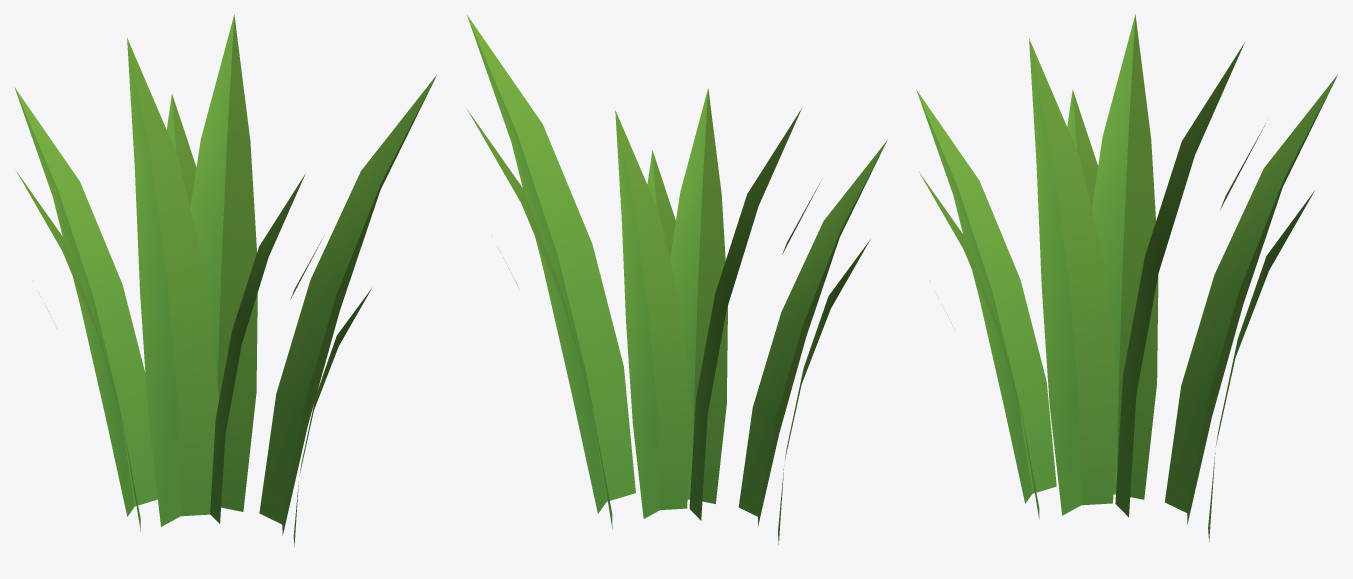
The model's file is Grass_2_C_Color1.glb.
3 renders of one model, left to right at view 1: azimuth 30°, elevation 25°; view 2: azimuth 150°, elevation 25°; view 3: azimuth 270°, elevation 25°, orthographic. The views are drawn at different scales.
Visible parts, largest first — view 1: Grass_2_C_Singlesided_Color1; view 2: Grass_2_C_Singlesided_Color1; view 3: Grass_2_C_Singlesided_Color1.
Part boxes in pixels (left/top/right/bottom): Grass_2_C_Singlesided_Color1: left=14, top=15, right=436, bottom=546; Grass_2_C_Singlesided_Color1: left=467, top=15, right=887, bottom=544; Grass_2_C_Singlesided_Color1: left=916, top=14, right=1337, bottom=541.
Bounding box in the file's own units: 0.8719 × 0.9336 × 0.7383.
Materials: 1 (1 with a texture image).
